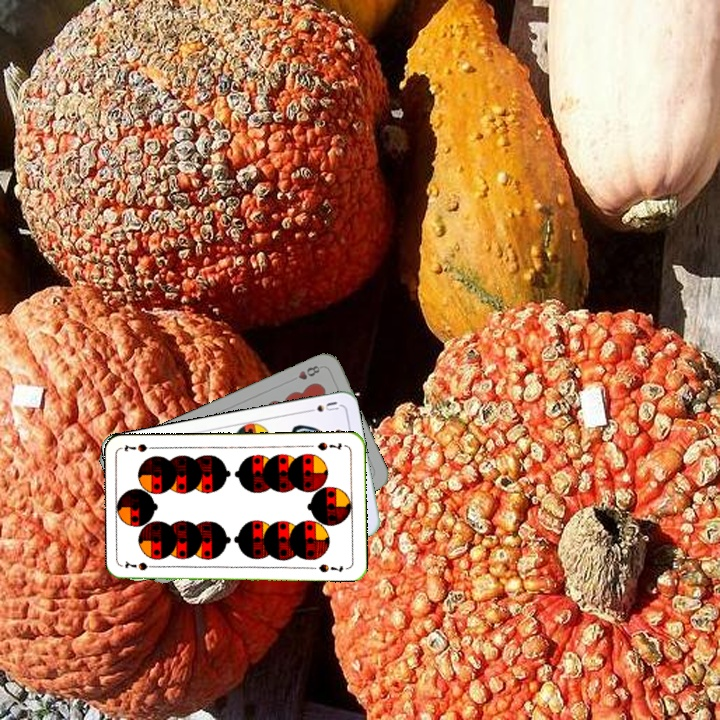H8: (294, 361, 322, 382)
S7: (121, 559, 162, 573), (314, 438, 344, 453)
SU: (302, 397, 341, 415)
